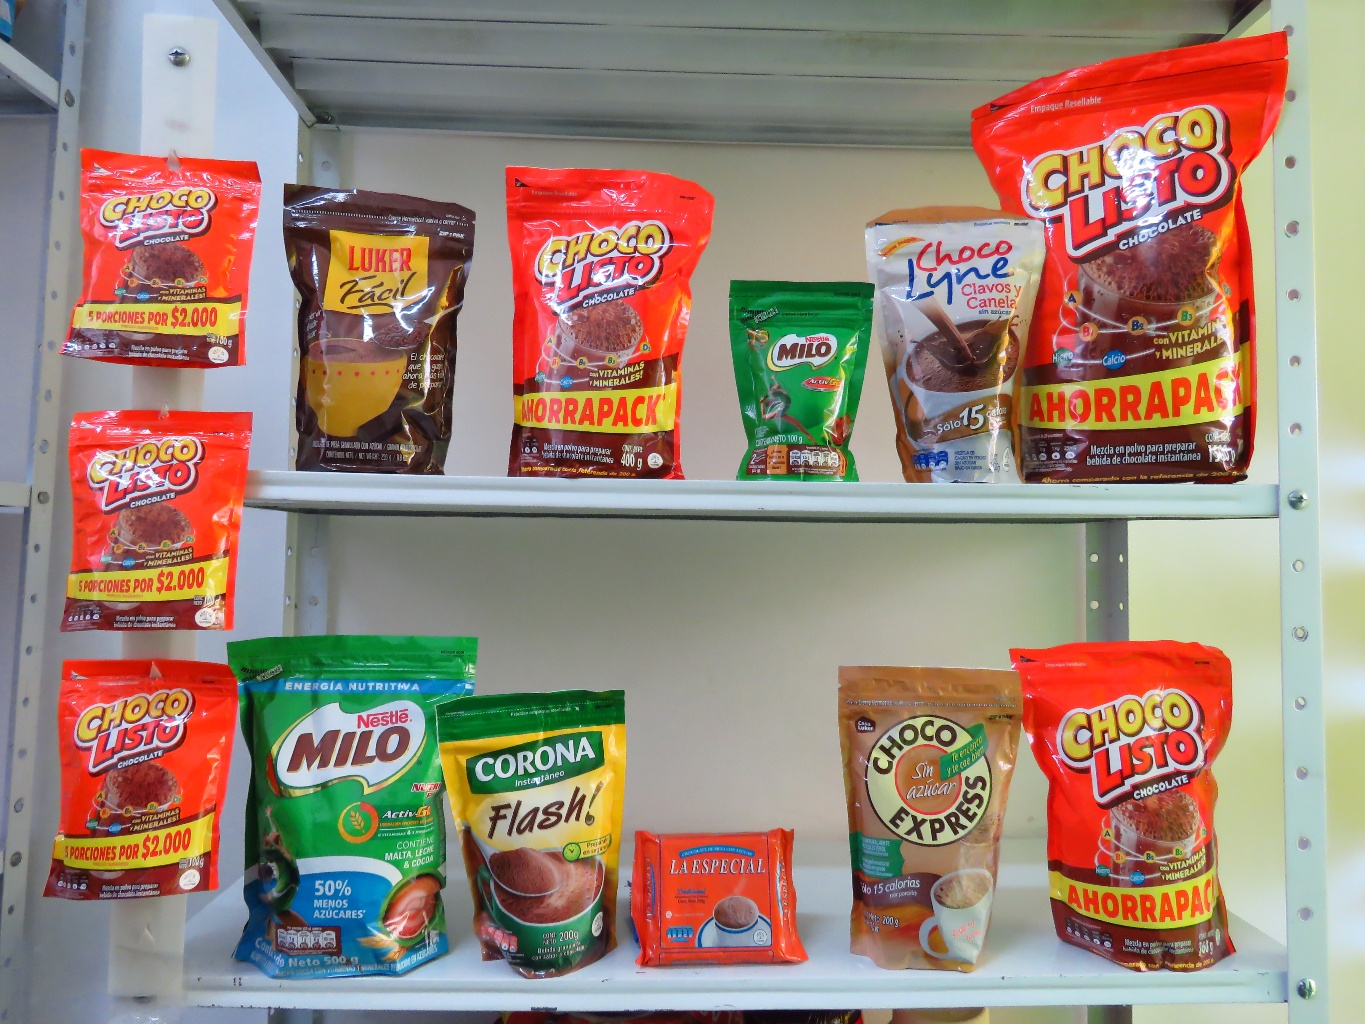COL0170103DYP1,500: (973, 15, 1272, 492)
COL0170103DYP10000: (52, 130, 274, 369)
COL0170103DYP36000: (1013, 631, 1252, 972)
COL0170103DYP40000: (499, 158, 709, 484)
COL0170203DYP10000: (711, 264, 877, 483)
COL0170205DYP50000: (225, 626, 480, 980)
